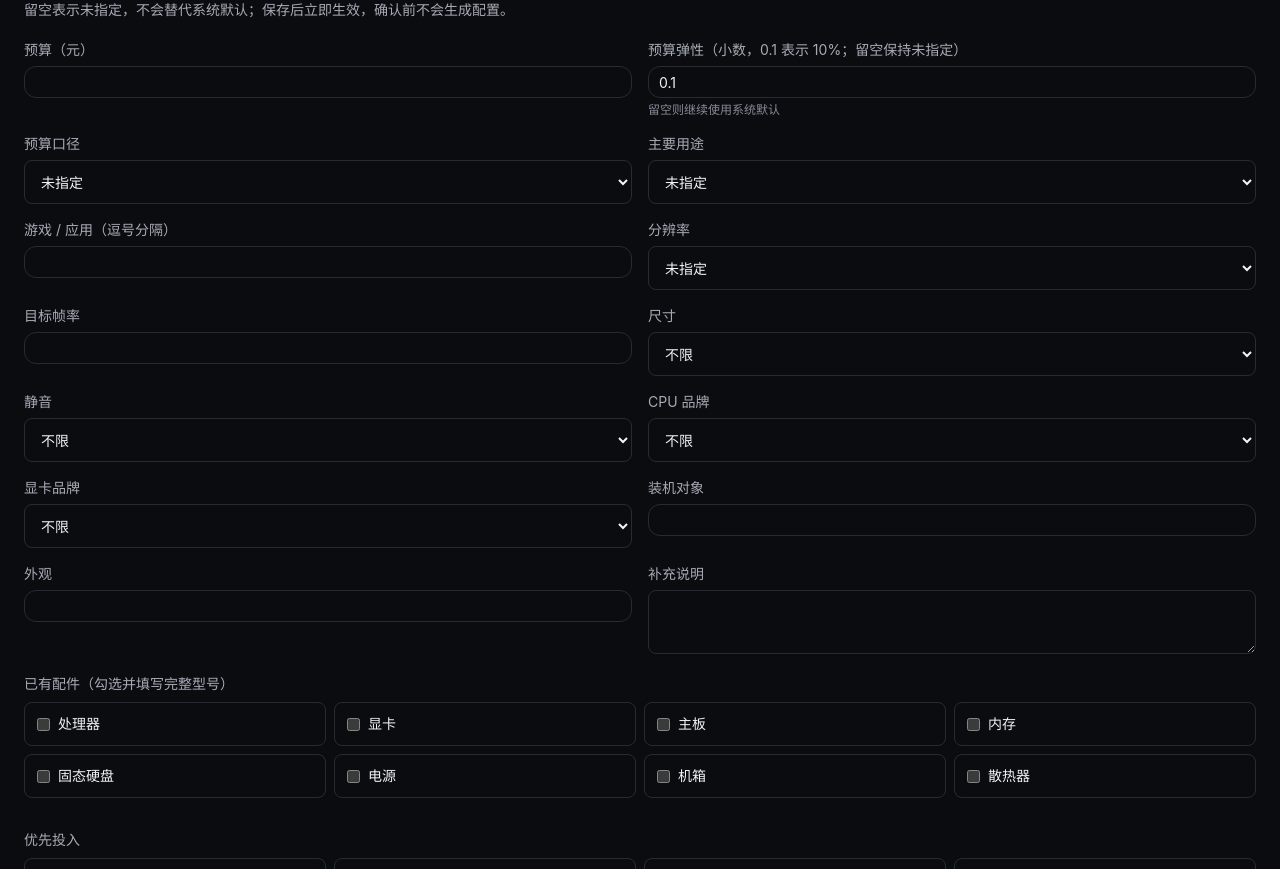
RequirementFullEditor 批量编辑只提交实际改动 › 保存失败保留输入并展示错误
Step 1. Select "ITX" in the dropdown labelled "尺寸" → (952, 354), box top-left (648, 332), bottom-right (1256, 376)
(page scrolled)
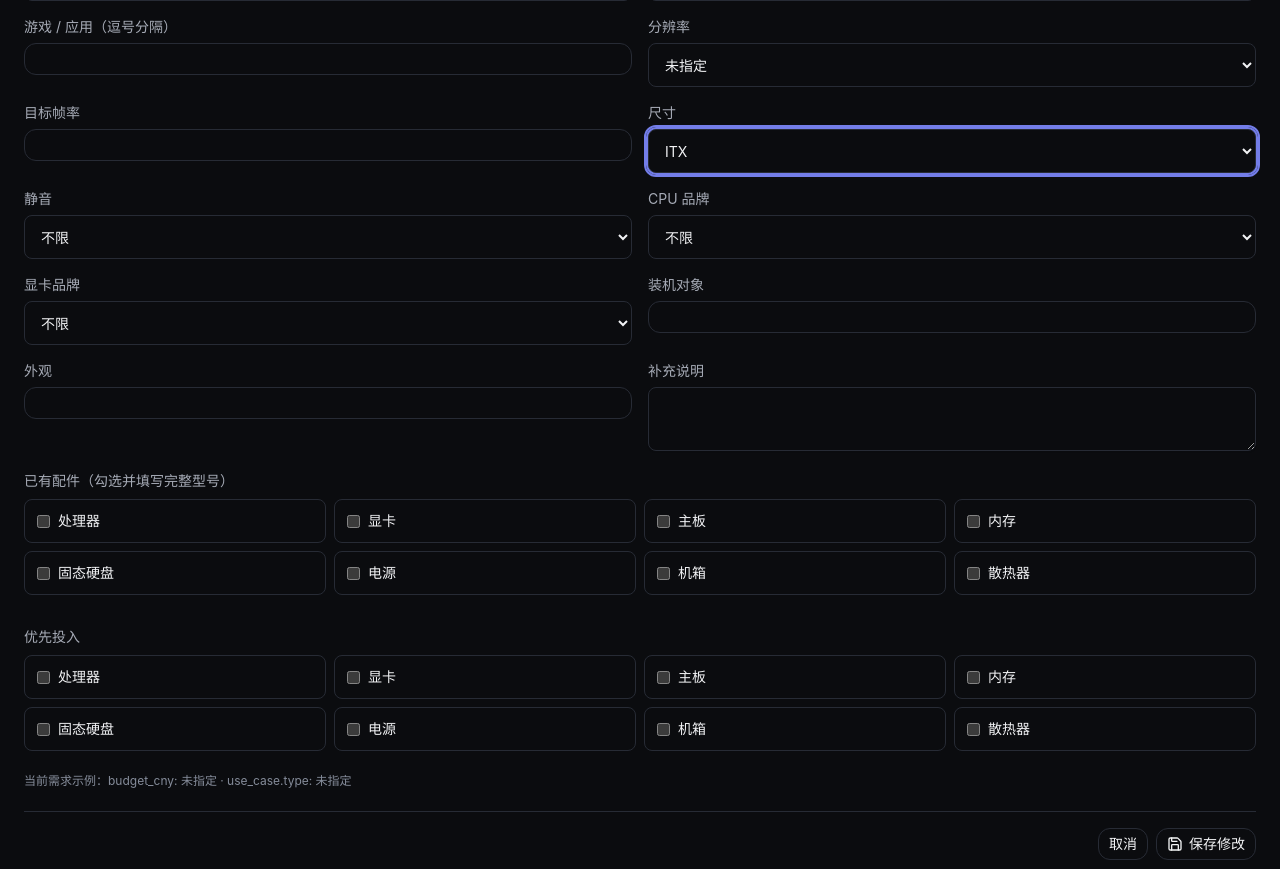
Step 2. Click the button "保存修改" → click(1206, 844), box top-left (1156, 828), bottom-right (1256, 860)
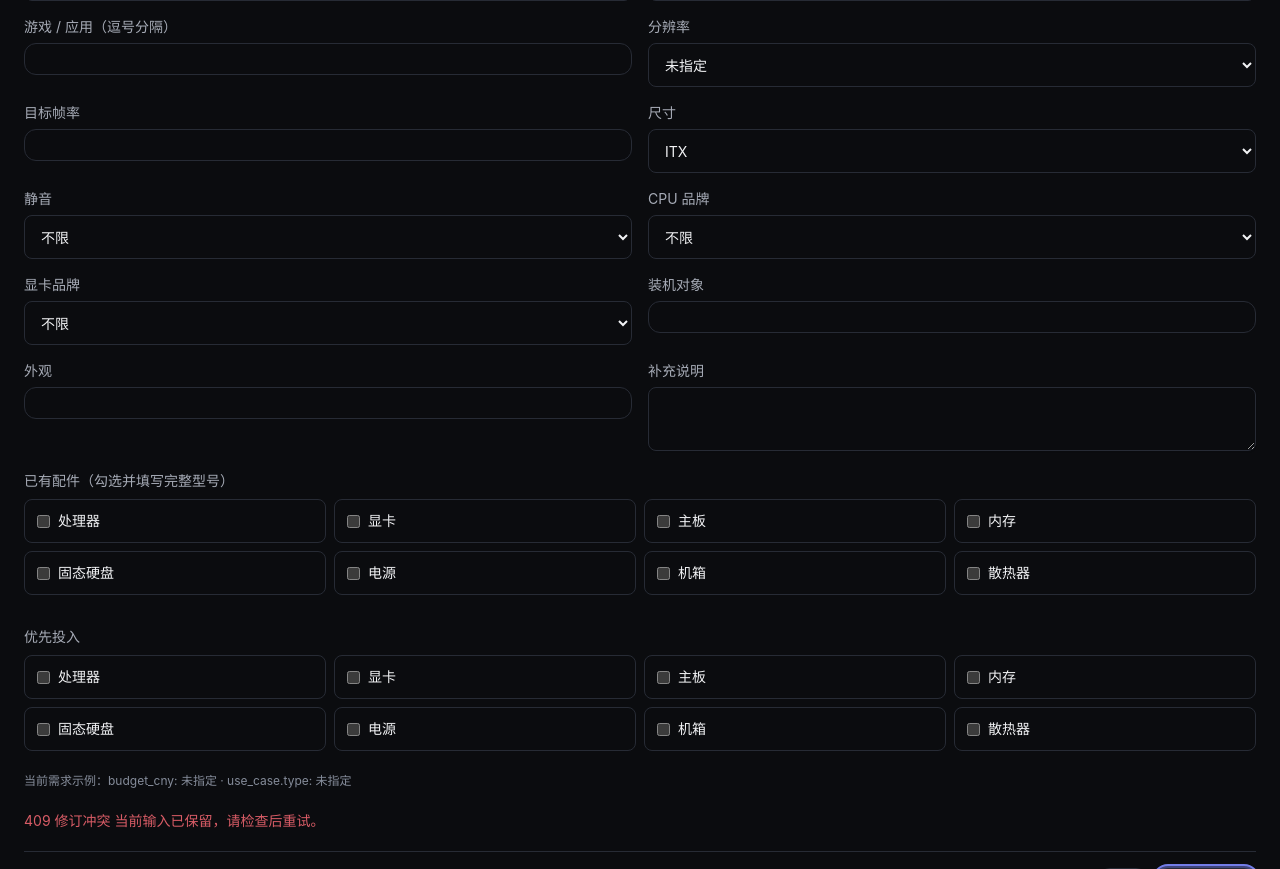
Result: the message shows "409 修订冲突" at top-left (24, 812), bottom-right (110, 829)
